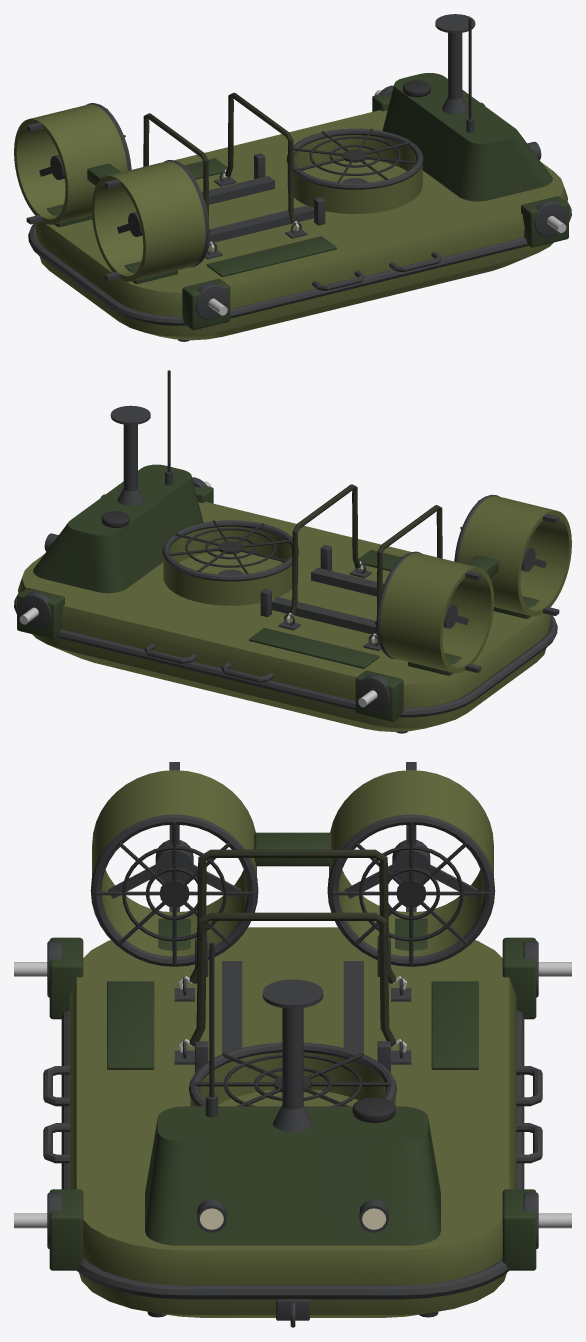
Rendered from hull.glb.
3 views of the same model, one above another, from view 1: azimuth 30°, elevation 25°; view 2: azimuth 150°, elevation 25°; view 3: azimuth 270°, elevation 25° (orthographic). The views are drawn at different scales.
Parts seen in each view (by area): view 1: hull; view 2: hull; view 3: hull.
Part boxes in pixels (x1,y1,x2,y2): hull: (14,14,571,341); hull: (14,370,571,733); hull: (14,762,571,1327).
Size of the model in its own units: 1.21 by 0.58 by 0.825.
